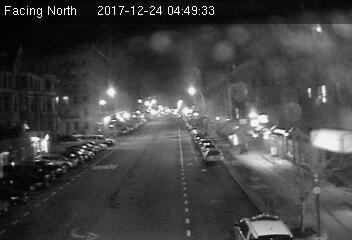car: (201, 147, 224, 164)
police: (232, 212, 299, 238)
